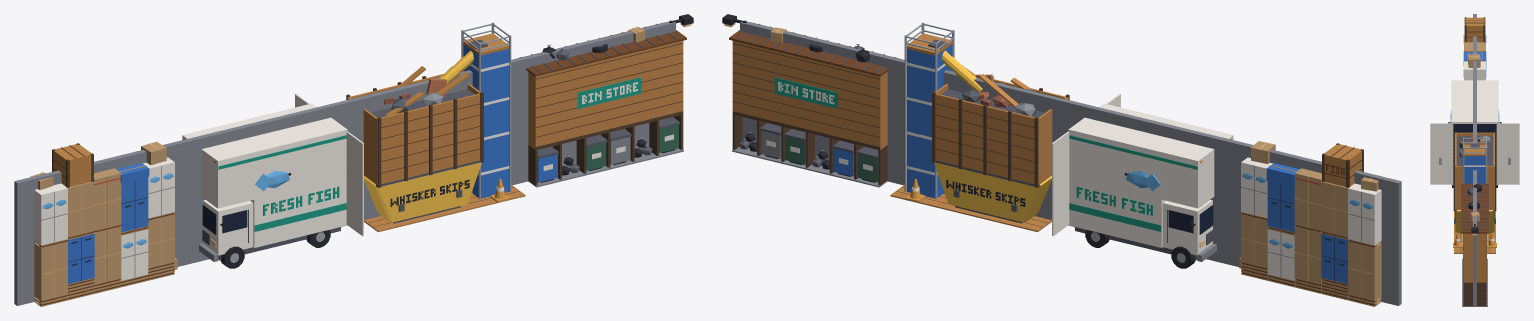
The model's file is CatCafe_Alley_Blocker_RowVan.glb.
3 renders of one model, left to right at view 1: azimuth 30°, elevation 25°; view 2: azimuth 150°, elevation 25°; view 3: azimuth 270°, elevation 25°, orthographic. The views are drawn at different scales.
Parts seen in each view (by area): view 1: CatCafe_Alley_Blocker_RowVan_002_Blocker_Skip, CatCafe_Alley_Blocker_RowVan_001_Blocker_Van, CatCafe_Alley_Blocker_RowVan_003_Blocker_Bins, CatCafe_Alley_Blocker_RowVan_000_Blocker_Pallets, CatCafe_Alley_Blocker_RowVan_001_Blocker_Van_Barrier, CatCafe_Alley_Blocker_RowVan_000_Blocker_Pallets_Barrier, CatCafe_Alley_Blocker_RowVan_003_Blocker_Bins_Barrier, CatCafe_Alley_Blocker_RowVan_002_Blocker_Skip_Barrier; view 2: CatCafe_Alley_Blocker_RowVan_002_Blocker_Skip, CatCafe_Alley_Blocker_RowVan_001_Blocker_Van, CatCafe_Alley_Blocker_RowVan_003_Blocker_Bins, CatCafe_Alley_Blocker_RowVan_000_Blocker_Pallets, CatCafe_Alley_Blocker_RowVan_001_Blocker_Van_Barrier, CatCafe_Alley_Blocker_RowVan_000_Blocker_Pallets_Barrier, CatCafe_Alley_Blocker_RowVan_003_Blocker_Bins_Barrier, CatCafe_Alley_Blocker_RowVan_002_Blocker_Skip_Barrier; view 3: CatCafe_Alley_Blocker_RowVan_001_Blocker_Van, CatCafe_Alley_Blocker_RowVan_002_Blocker_Skip, CatCafe_Alley_Blocker_RowVan_003_Blocker_Bins, CatCafe_Alley_Blocker_RowVan_000_Blocker_Pallets, CatCafe_Alley_Blocker_RowVan_003_Blocker_Bins_Barrier, CatCafe_Alley_Blocker_RowVan_001_Blocker_Van_Barrier, CatCafe_Alley_Blocker_RowVan_000_Blocker_Pallets_Barrier, CatCafe_Alley_Blocker_RowVan_002_Blocker_Skip_Barrier.
Boxes of the visible parts, bbox=[...] form: CatCafe_Alley_Blocker_RowVan_002_Blocker_Skip: bbox=[346, 22, 525, 232]; CatCafe_Alley_Blocker_RowVan_001_Blocker_Van: bbox=[182, 93, 363, 268]; CatCafe_Alley_Blocker_RowVan_003_Blocker_Bins: bbox=[514, 22, 686, 187]; CatCafe_Alley_Blocker_RowVan_000_Blocker_Pallets: bbox=[30, 141, 177, 306]; CatCafe_Alley_Blocker_RowVan_001_Blocker_Van_Barrier: bbox=[179, 101, 346, 265]; CatCafe_Alley_Blocker_RowVan_000_Blocker_Pallets_Barrier: bbox=[14, 141, 181, 305]; CatCafe_Alley_Blocker_RowVan_003_Blocker_Bins_Barrier: bbox=[511, 20, 675, 185]; CatCafe_Alley_Blocker_RowVan_002_Blocker_Skip_Barrier: bbox=[344, 70, 472, 225]; CatCafe_Alley_Blocker_RowVan_002_Blocker_Skip: bbox=[890, 22, 1069, 232]; CatCafe_Alley_Blocker_RowVan_001_Blocker_Van: bbox=[1052, 93, 1233, 268]; CatCafe_Alley_Blocker_RowVan_003_Blocker_Bins: bbox=[729, 22, 901, 187]; CatCafe_Alley_Blocker_RowVan_000_Blocker_Pallets: bbox=[1239, 141, 1381, 306]; CatCafe_Alley_Blocker_RowVan_001_Blocker_Van_Barrier: bbox=[1069, 101, 1236, 265]; CatCafe_Alley_Blocker_RowVan_000_Blocker_Pallets_Barrier: bbox=[1234, 141, 1401, 305]; CatCafe_Alley_Blocker_RowVan_003_Blocker_Bins_Barrier: bbox=[740, 20, 904, 185]; CatCafe_Alley_Blocker_RowVan_002_Blocker_Skip_Barrier: bbox=[943, 70, 1071, 225]; CatCafe_Alley_Blocker_RowVan_001_Blocker_Van: bbox=[1430, 80, 1519, 187]; CatCafe_Alley_Blocker_RowVan_002_Blocker_Skip: bbox=[1453, 131, 1496, 253]; CatCafe_Alley_Blocker_RowVan_003_Blocker_Bins: bbox=[1461, 182, 1488, 306]; CatCafe_Alley_Blocker_RowVan_000_Blocker_Pallets: bbox=[1463, 17, 1486, 80]; CatCafe_Alley_Blocker_RowVan_003_Blocker_Bins_Barrier: bbox=[1473, 173, 1476, 306]; CatCafe_Alley_Blocker_RowVan_001_Blocker_Van_Barrier: bbox=[1473, 67, 1476, 119]; CatCafe_Alley_Blocker_RowVan_000_Blocker_Pallets_Barrier: bbox=[1473, 14, 1476, 66]; CatCafe_Alley_Blocker_RowVan_002_Blocker_Skip_Barrier: bbox=[1473, 120, 1476, 172].
Bounding box in the file's own units: 65.6 × 14.61 × 11.4.
Materials: 1 (1 with a texture image).
